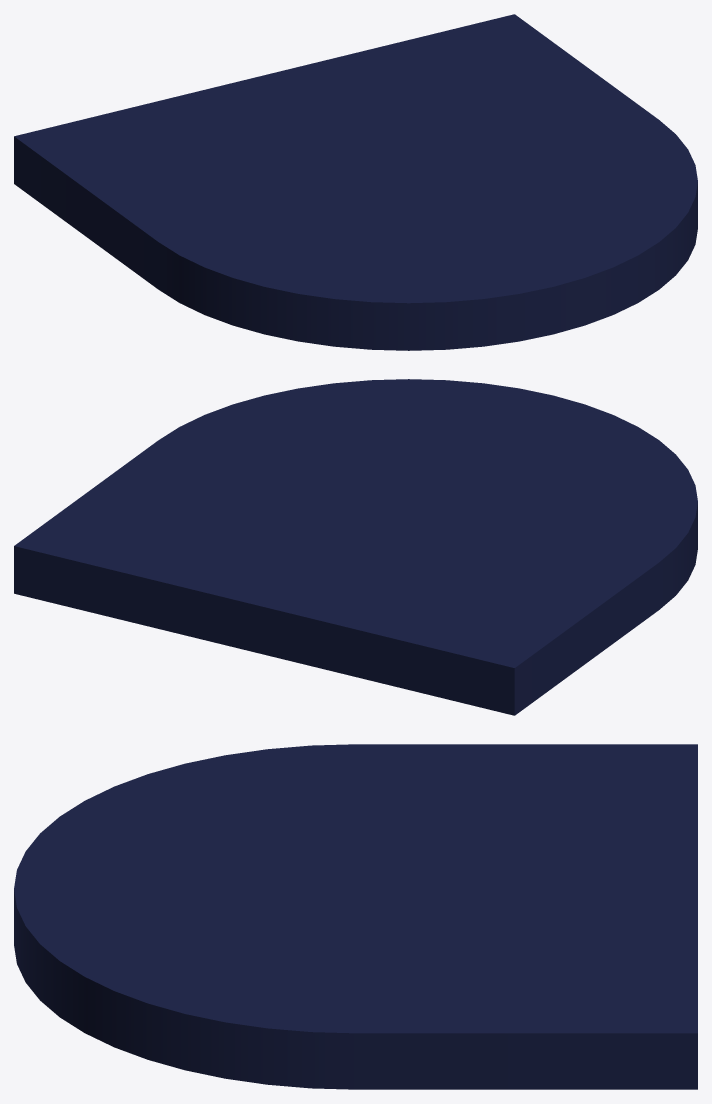
The model's file is fant_suspension_panel_1x1a_collider.obj.
3 views of the same model, one above another, from view 1: azimuth 30°, elevation 25°; view 2: azimuth 150°, elevation 25°; view 3: azimuth 270°, elevation 25° (orthographic). The views are drawn at different scales.
Visible parts, largest first — view 1: suspension_panel_1x1a_collider_Cube.001; view 2: suspension_panel_1x1a_collider_Cube.001; view 3: suspension_panel_1x1a_collider_Cube.001.
Part boxes in pixels (bbox=[...]): suspension_panel_1x1a_collider_Cube.001: bbox=[14, 14, 697, 350]; suspension_panel_1x1a_collider_Cube.001: bbox=[14, 379, 697, 715]; suspension_panel_1x1a_collider_Cube.001: bbox=[14, 744, 697, 1089].
Size of the model in its own units: 1.1 by 0.1 by 1.1.
